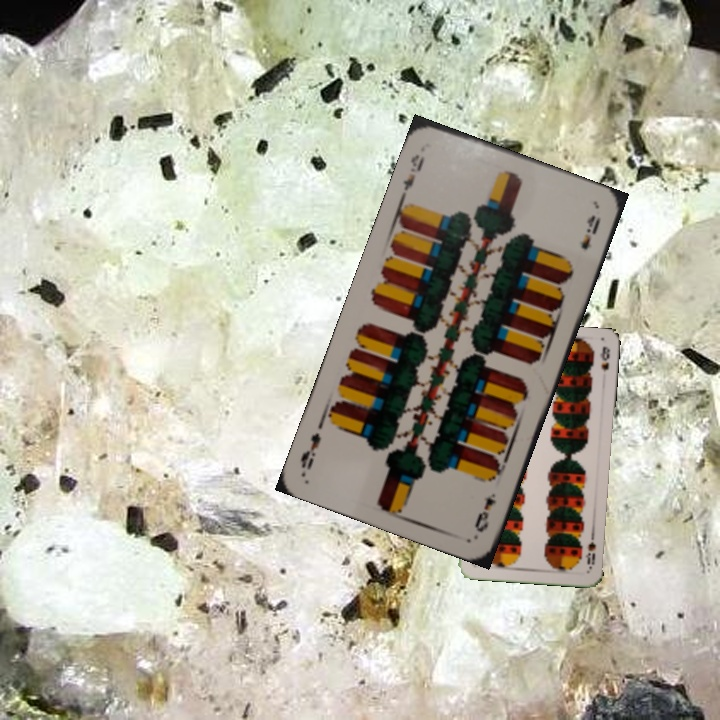E9: (397, 150, 428, 200), (470, 489, 499, 535)
S8: (581, 531, 598, 572)
